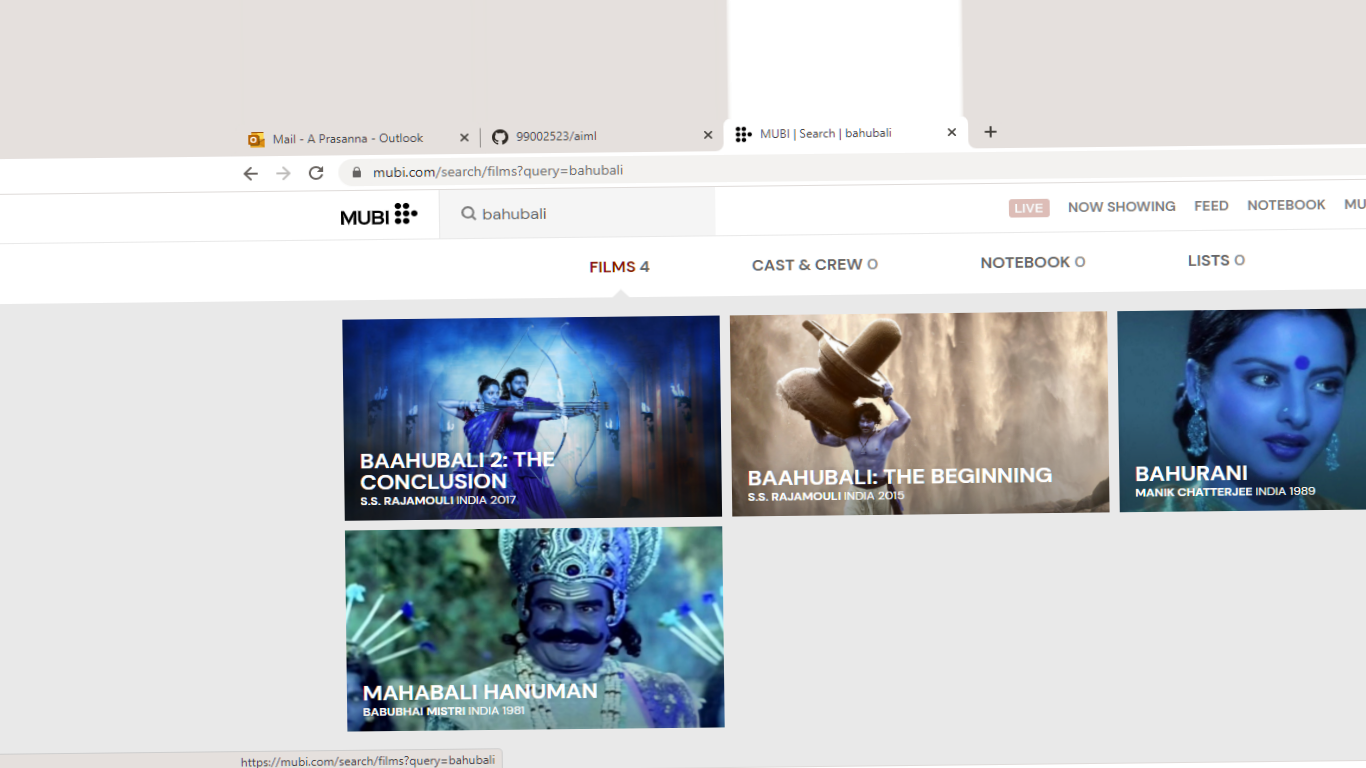searchicon: (452, 203, 481, 225)
searchtextbox: (437, 188, 715, 235)
